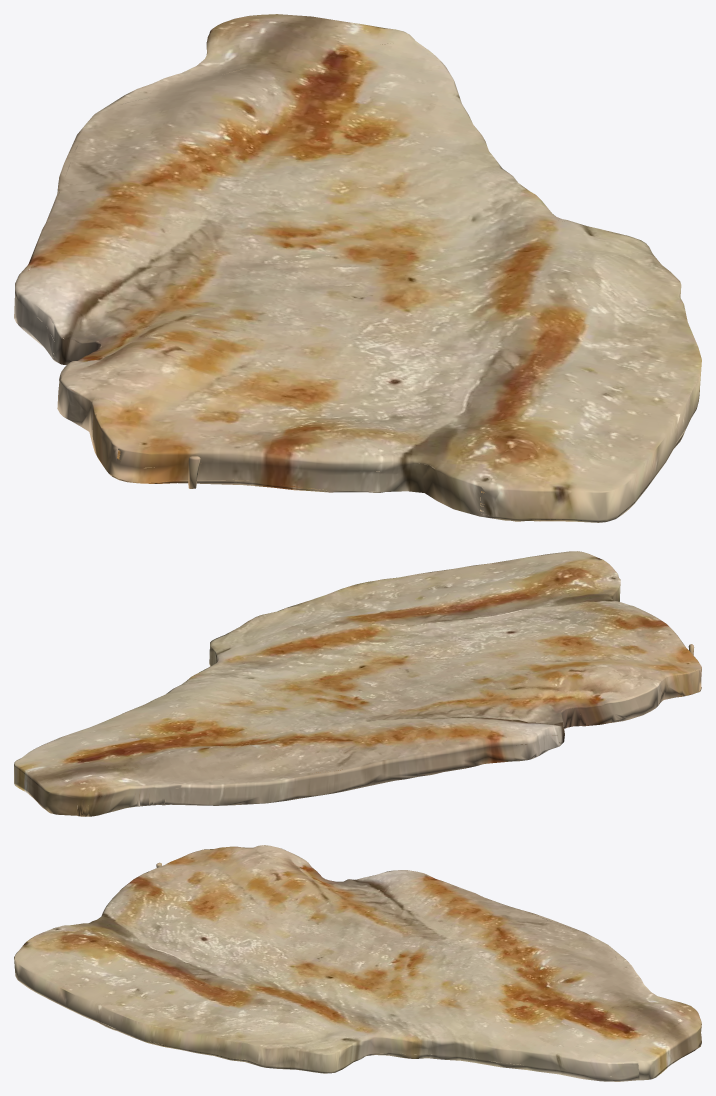
The model's file is pollo.glb.
The picture shows the model from 3 angles, top to bottom: view 1: azimuth 30°, elevation 25°; view 2: azimuth 150°, elevation 25°; view 3: azimuth 270°, elevation 25°; orthographic projection. The views are drawn at different scales.
Parts seen in each view (by area): view 1: fetta di pollo; view 2: fetta di pollo; view 3: fetta di pollo.
Part boxes in pixels (bbox=[...]): fetta di pollo: bbox=[14, 14, 701, 522]; fetta di pollo: bbox=[14, 551, 701, 816]; fetta di pollo: bbox=[14, 845, 701, 1081].
Size of the model in its own units: 1.23 by 0.1478 by 1.84.
Materials: 1 (1 with a texture image).
